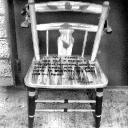chair_success: (16, 0, 112, 128)
